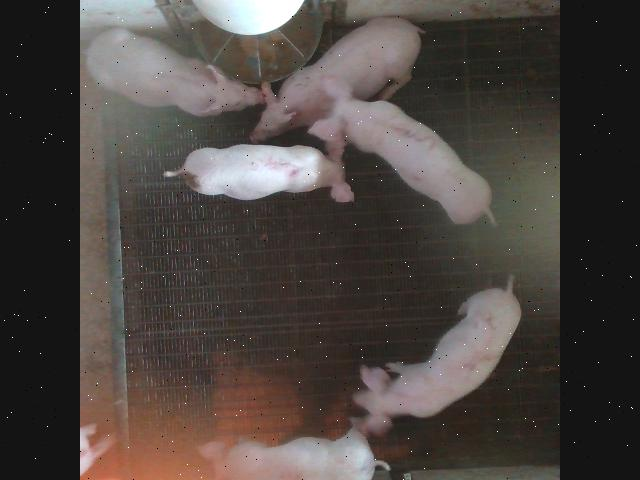pig-3: (309, 78, 495, 222)
pig-4: (200, 428, 390, 480)
pig-5: (164, 144, 354, 201)
